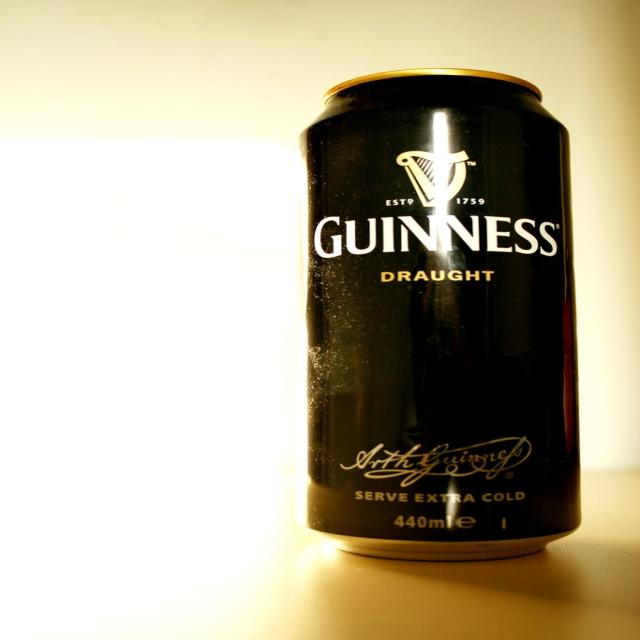guiness: (312, 150, 560, 261)
